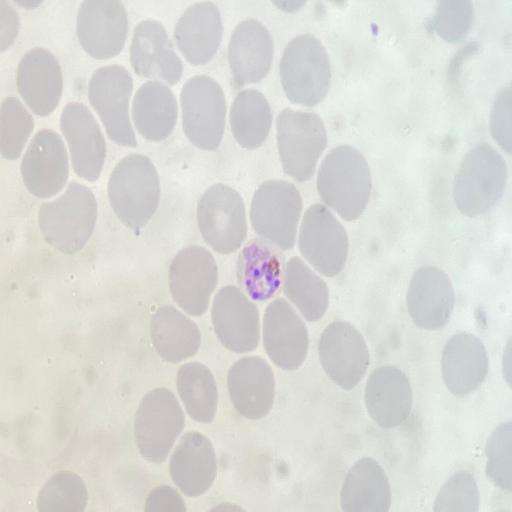Infected: (237, 239, 284, 304)
Uninfected: (296, 200, 350, 279), (38, 181, 99, 250), (273, 104, 326, 181), (318, 146, 373, 220), (109, 153, 161, 231), (88, 63, 135, 149), (133, 388, 184, 467), (59, 104, 109, 182), (280, 35, 334, 105), (168, 246, 218, 320), (454, 144, 505, 216), (250, 178, 302, 248), (214, 281, 265, 352), (131, 19, 185, 86), (19, 126, 69, 197), (439, 330, 490, 399), (363, 364, 415, 431), (169, 428, 219, 497), (278, 254, 330, 320), (180, 76, 227, 149), (261, 301, 308, 374), (200, 181, 247, 251), (148, 301, 201, 363), (227, 18, 275, 86), (177, 0, 224, 69), (16, 48, 63, 115), (320, 323, 367, 389), (228, 355, 276, 419), (76, 0, 128, 59), (131, 86, 181, 147), (406, 268, 455, 330), (343, 455, 392, 512), (177, 361, 219, 425), (231, 90, 274, 150), (38, 469, 89, 512), (2, 98, 33, 159)
